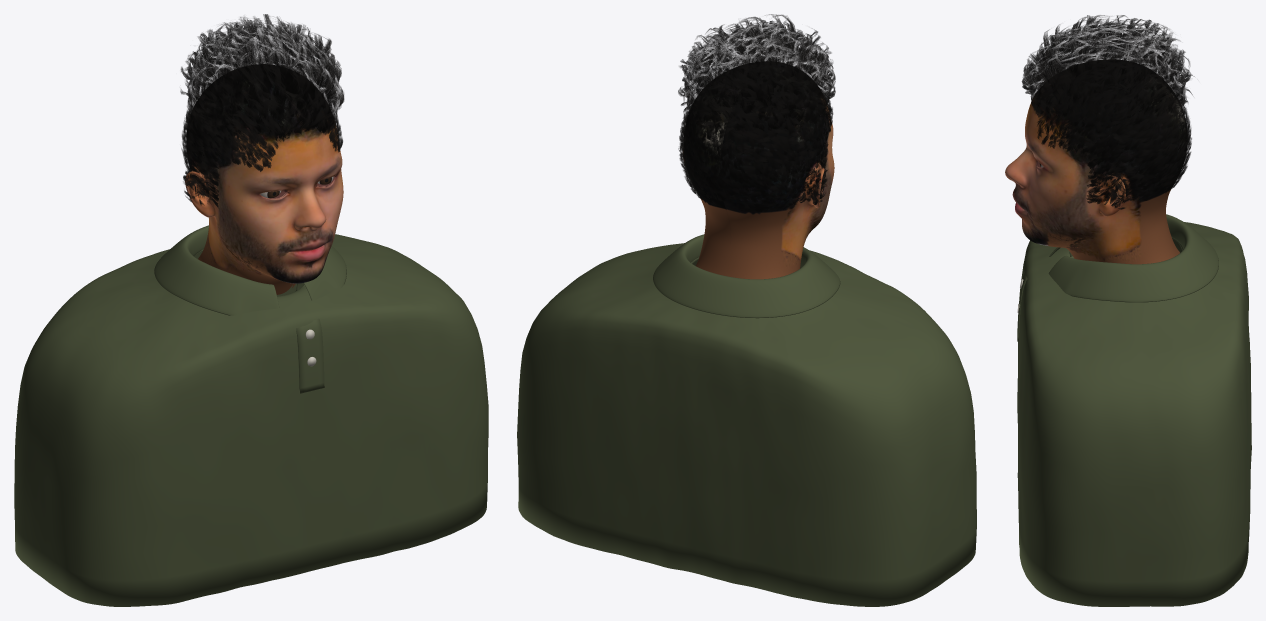
File: digital_double.glb
The picture shows the model from 3 angles, left to right: view 1: azimuth 30°, elevation 25°; view 2: azimuth 150°, elevation 25°; view 3: azimuth 270°, elevation 25°; orthographic projection. The views are drawn at different scales.
Parts seen in each view (by area): view 1: Web_Shirt, Web_Head, Web_Hair, Web_PoloCollar, Web_Placket; view 2: Web_Shirt, Web_Hair, Web_Head, Web_PoloCollar; view 3: Web_Shirt, Web_Hair, Web_Head, Web_PoloCollar.
Boxes of the visible parts, bbox=[...] form: Web_Shirt: bbox=[14, 234, 488, 606]; Web_Head: bbox=[185, 64, 343, 294]; Web_Hair: bbox=[180, 14, 344, 208]; Web_PoloCollar: bbox=[154, 225, 346, 315]; Web_Placket: bbox=[296, 318, 324, 393]; Web_Shirt: bbox=[517, 243, 976, 606]; Web_Hair: bbox=[678, 14, 835, 212]; Web_Head: bbox=[683, 61, 834, 279]; Web_PoloCollar: bbox=[653, 234, 840, 318]; Web_Shirt: bbox=[1017, 222, 1251, 606]; Web_Hair: bbox=[1021, 15, 1194, 209]; Web_Head: bbox=[1005, 59, 1187, 264]; Web_PoloCollar: bbox=[1048, 214, 1218, 302].
Size of the model in its own units: 0.4143 by 0.4812 by 0.2207.
Materials: 6 (3 with a texture image).
